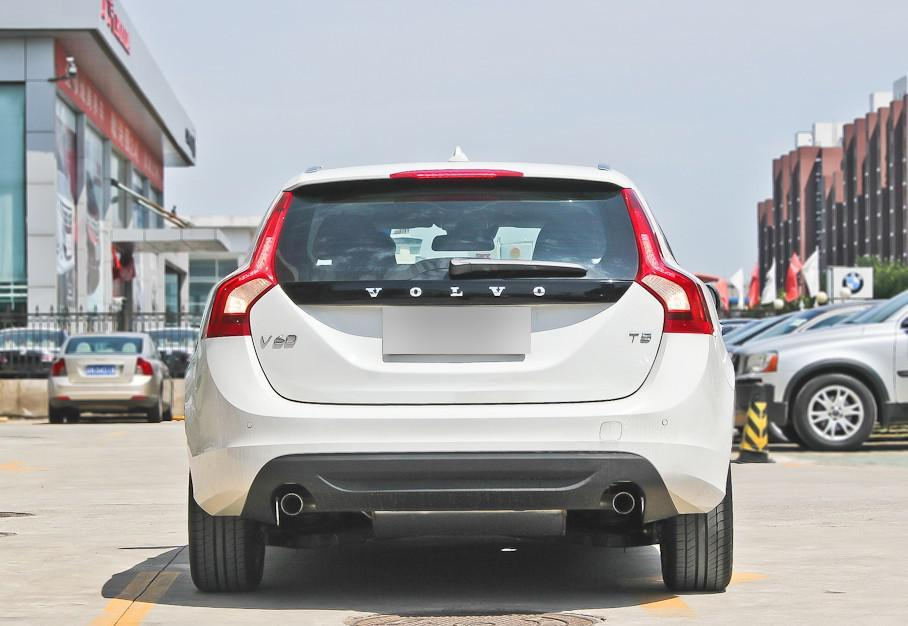Wagon: (183, 144, 736, 593)
